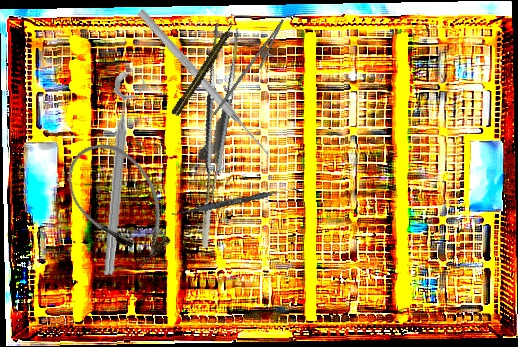Cannula: (52, 128, 189, 277)
Fixation Ring: (98, 70, 148, 278)
Handpiece: (169, 20, 239, 118)
Needle Holder: (212, 11, 293, 128)
Pusher: (135, 7, 273, 159)
Spatula Surgical: (171, 183, 300, 220)
Tissue Forceps: (162, 22, 262, 249)
